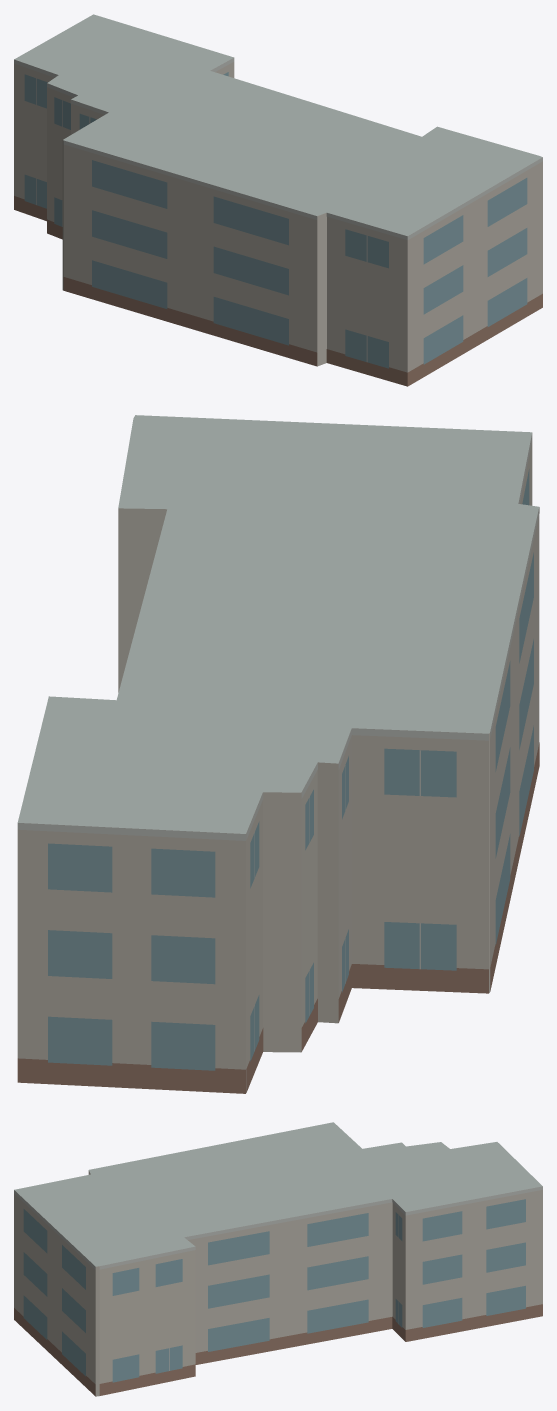
The model's file is survey-upis-32689730.glb.
3 renders of one model, top to bottom at view 1: azimuth 30°, elevation 25°; view 2: azimuth 150°, elevation 25°; view 3: azimuth 270°, elevation 25°, orthographic. The views are drawn at different scales.
Parts seen in each view (by area): view 1: survey-upis-32689730.tmp; view 2: survey-upis-32689730.tmp; view 3: survey-upis-32689730.tmp.
Part boxes in pixels (left/top/right/bottom): survey-upis-32689730.tmp: left=14, top=14, right=542, bottom=386; survey-upis-32689730.tmp: left=17, top=415, right=539, bottom=1093; survey-upis-32689730.tmp: left=14, top=1122, right=542, bottom=1396.
Bounding box in the file's own units: 21.82 × 9.15 × 33.77.
